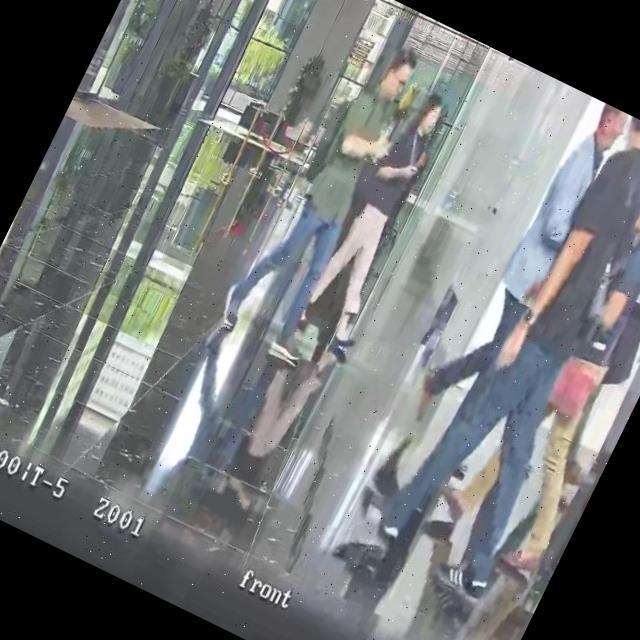person: (398, 110, 640, 605), (412, 84, 633, 434), (212, 21, 438, 362), (468, 148, 640, 585), (287, 80, 469, 366)
